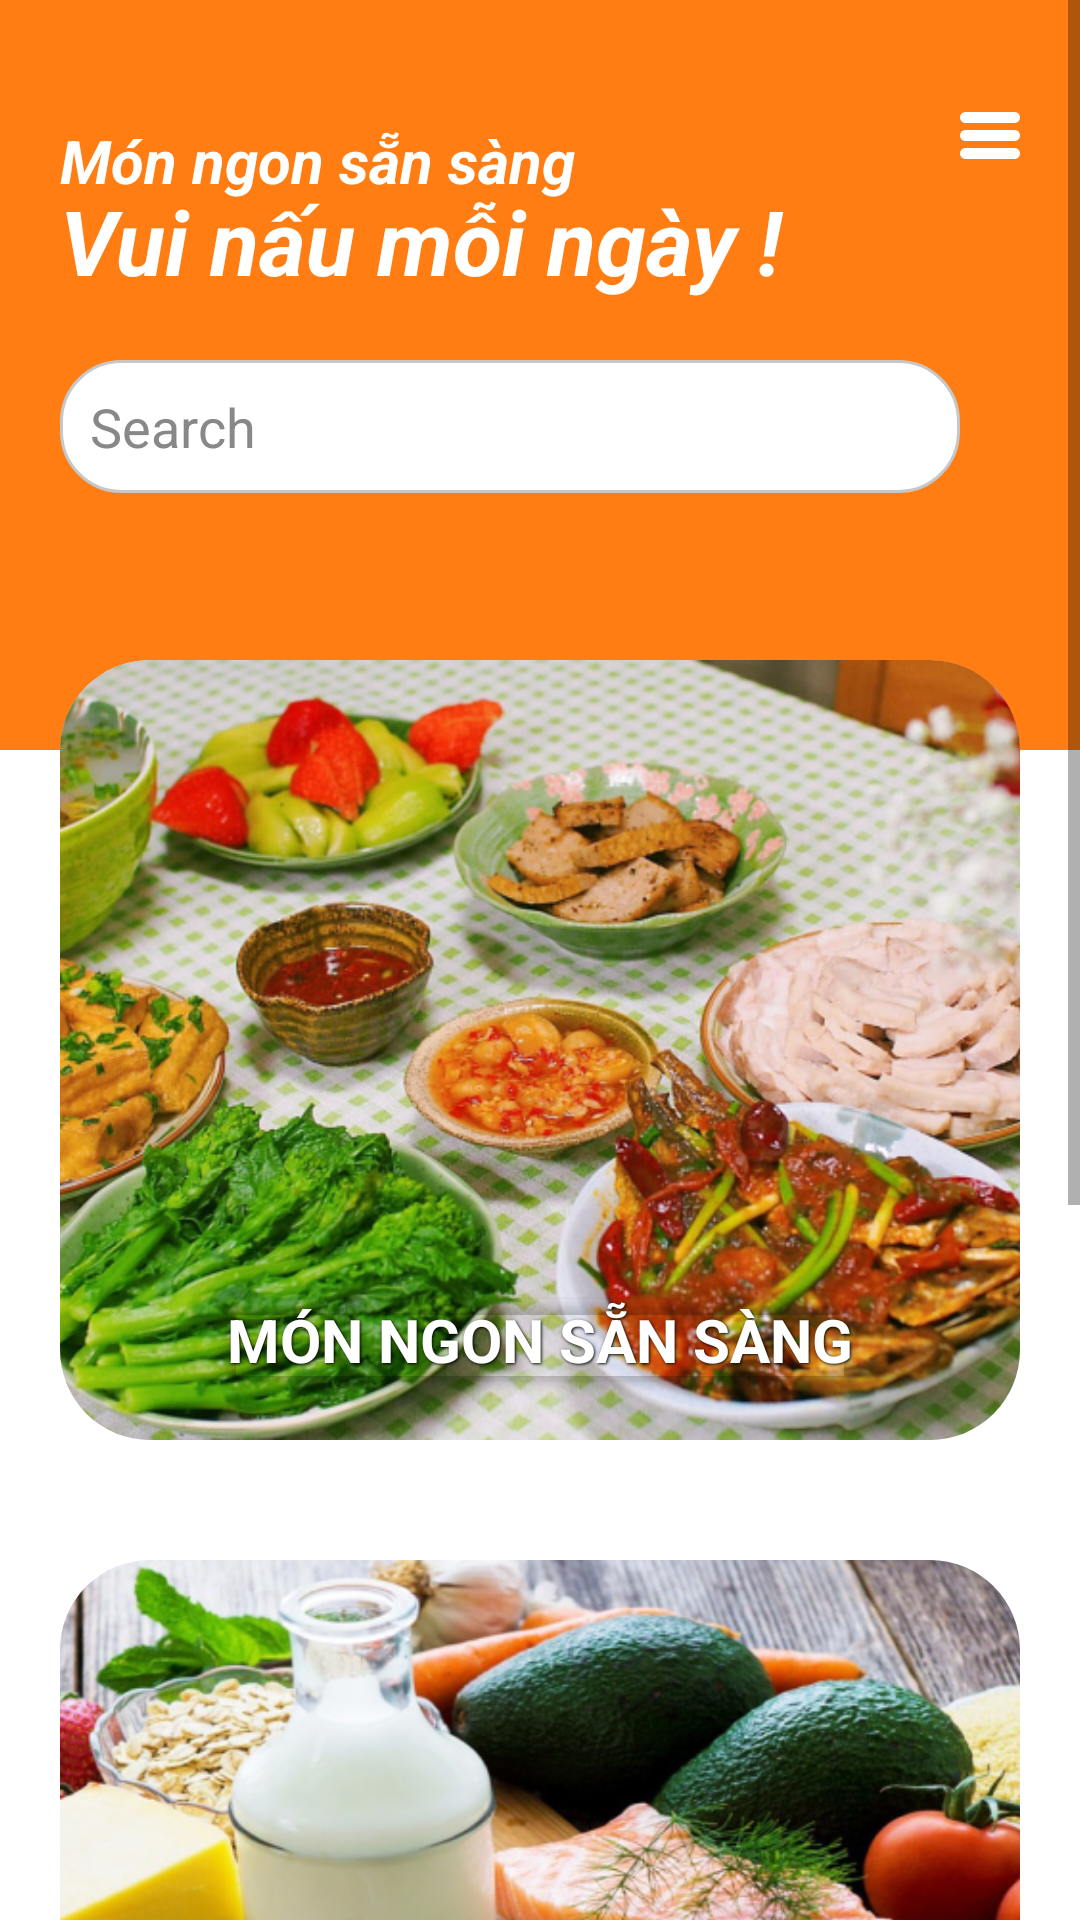

Icons on this 1080 x 1920 Android screen, each with its box as (x1, y1, x2, y2):
hamburger: (960, 112, 1020, 159)
